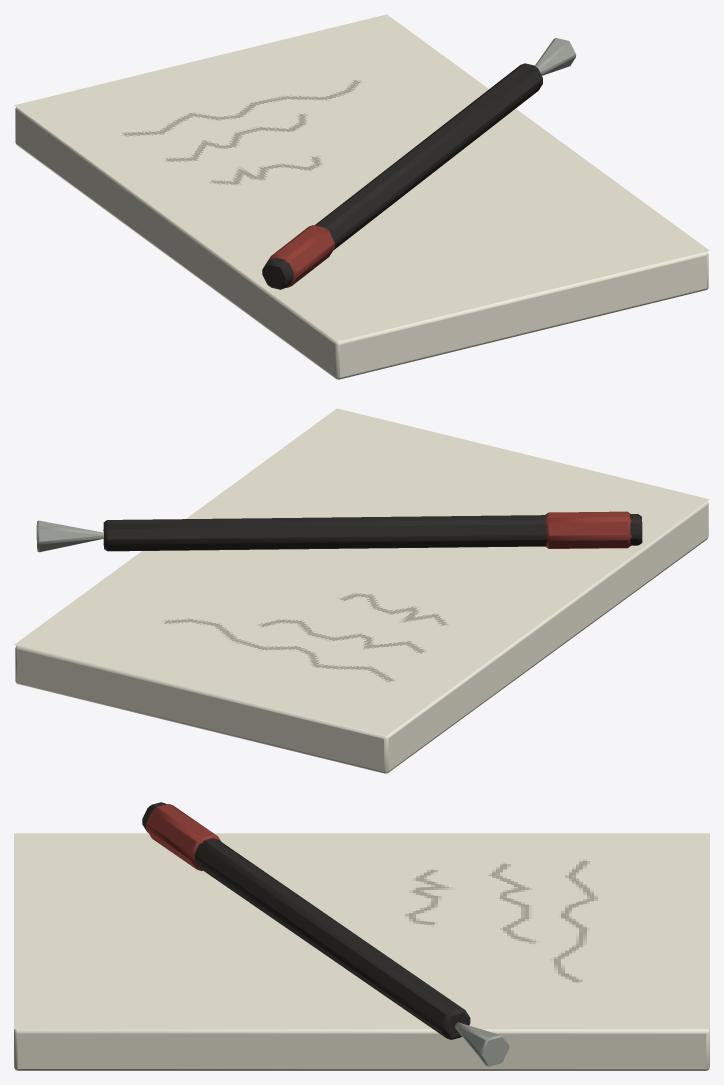
Rendered from LOC_TapGiay_ButBi.glb.
3 renders of one model, top to bottom at view 1: azimuth 30°, elevation 25°; view 2: azimuth 150°, elevation 25°; view 3: azimuth 270°, elevation 25°, orthographic. The views are drawn at different scales.
Parts seen in each view (by area): view 1: TapGiay_ButBi; view 2: TapGiay_ButBi; view 3: TapGiay_ButBi.
Part boxes in pixels (x1,y1,x2,y2): TapGiay_ButBi: (14,14,709,379); TapGiay_ButBi: (14,408,709,773); TapGiay_ButBi: (14,802,709,1070).
Size of the model in its own units: 0.1232 by 0.0185 by 0.15.
Materials: 5 (1 with a texture image).
